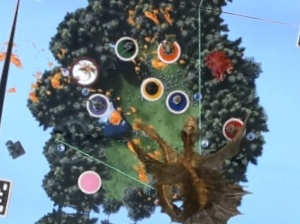blue: (162, 84, 192, 117)
green: (110, 31, 143, 65)
orange: (153, 34, 183, 64)
pink: (73, 164, 107, 196)
red: (218, 113, 249, 142)
violet: (79, 89, 114, 120)
yellow: (137, 71, 166, 103)
